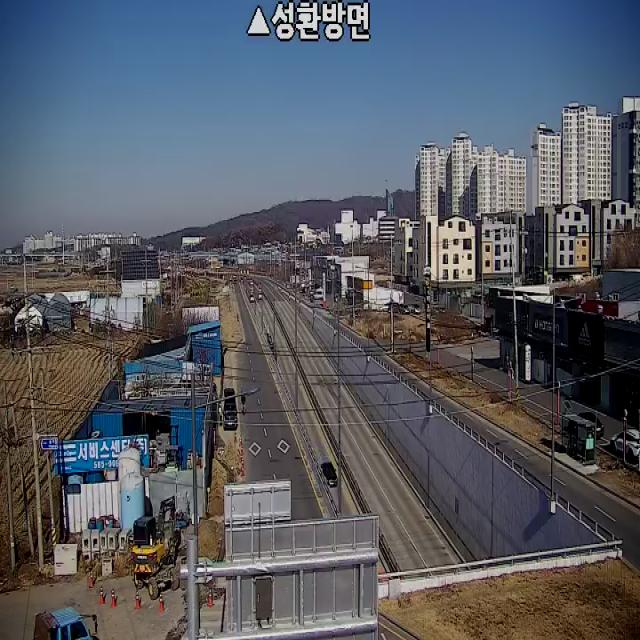Car: (611, 429, 640, 465), (573, 411, 604, 441), (322, 462, 338, 487)
Truck: (34, 607, 99, 640), (223, 388, 237, 428)
